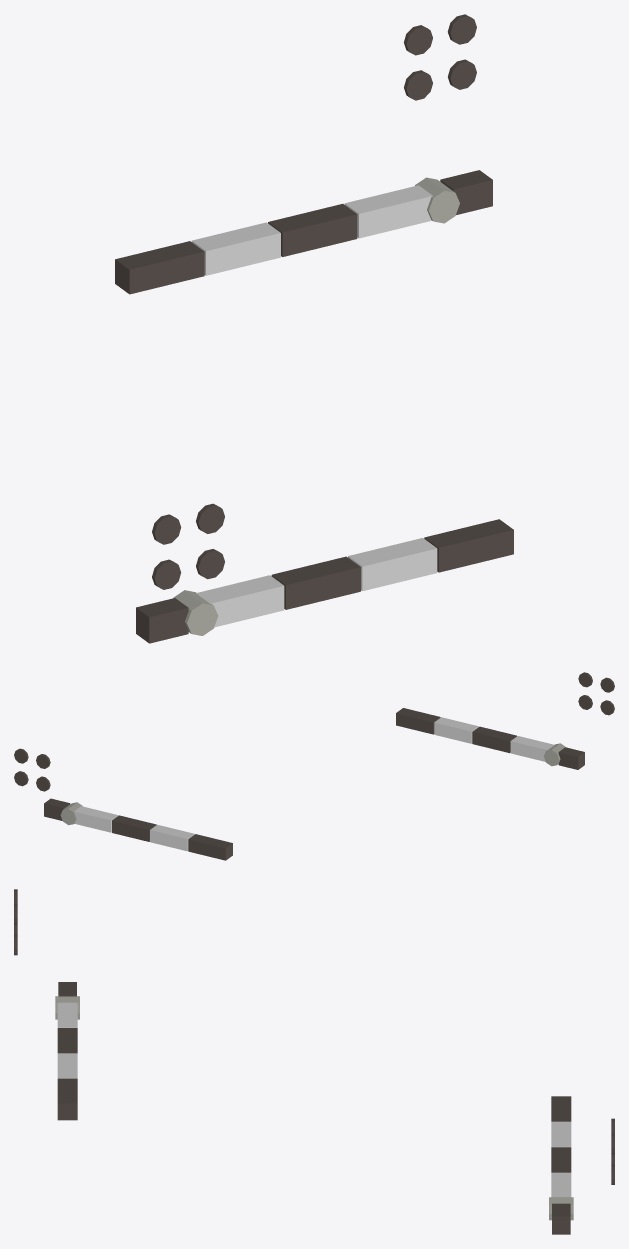
The model's file is SM_PasoNivel_90E_v1_FocosDobles_LOD1.fbx.
The picture shows the model from 3 angles, top to bottom: view 1: azimuth 30°, elevation 25°; view 2: azimuth 150°, elevation 25°; view 3: azimuth 270°, elevation 25°; orthographic projection. The views are drawn at different scales.
Parts seen in each view (by area): view 1: Barrera_2, Barrera_1, Luces_A, Luces_B; view 2: Barrera_1, Barrera_2, Luces_A, Luces_B; view 3: Barrera_1, Barrera_2.
Part boxes in pixels (left/top/right/bottom): Barrera_2: left=136, top=519, right=513, bottom=643; Barrera_1: left=115, top=170, right=492, bottom=294; Luces_A: left=152, top=25, right=432, bottom=589; Luces_B: left=196, top=14, right=476, bottom=579; Barrera_1: left=44, top=798, right=232, bottom=860; Barrera_2: left=396, top=708, right=584, bottom=769; Luces_A: left=36, top=677, right=614, bottom=791; Luces_B: left=14, top=672, right=592, bottom=786; Barrera_1: left=549, top=1096, right=573, bottom=1234; Barrera_2: left=55, top=982, right=79, bottom=1120.
Size of what is drawn, in the model's own units: 9.7 by 1.91 by 9.74.
